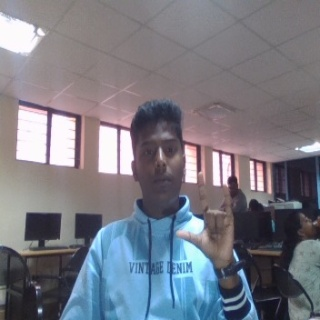Face: (130, 99, 188, 209)
I Love You: (175, 169, 234, 268)
